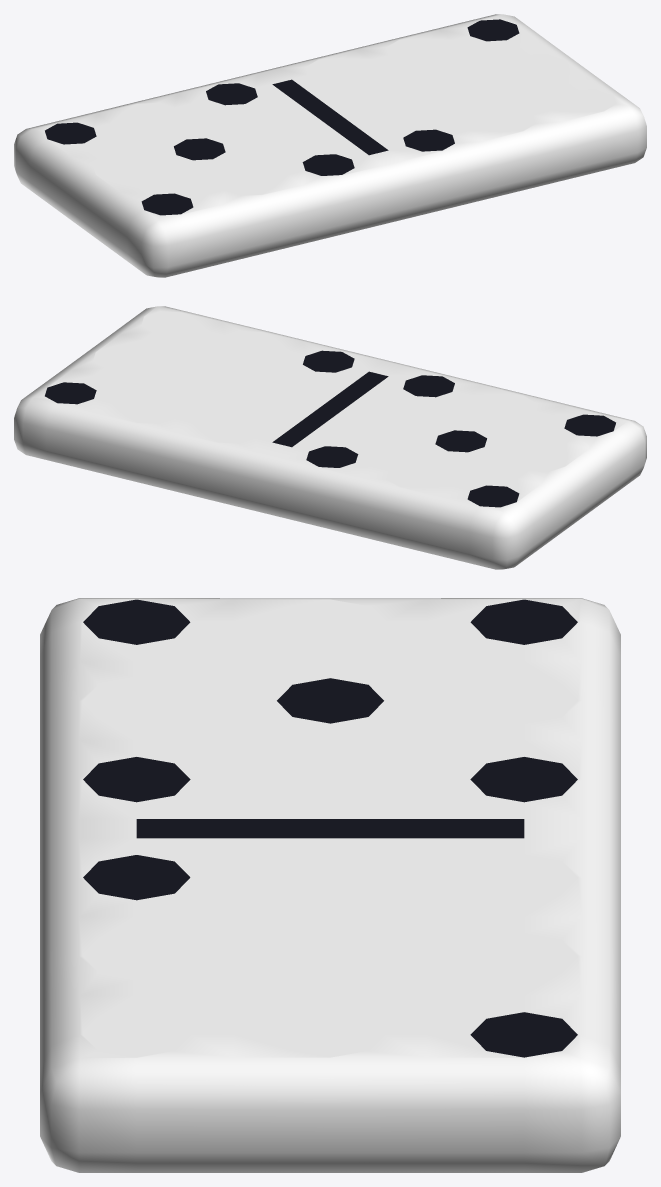
File: Domino.fbx
3 renders of one model, top to bottom at view 1: azimuth 30°, elevation 25°; view 2: azimuth 150°, elevation 25°; view 3: azimuth 270°, elevation 25°, orthographic. The views are drawn at different scales.
Visible parts, largest first — view 1: Msh_Domino; view 2: Msh_Domino; view 3: Msh_Domino.
Part boxes in pixels (x1,y1,x2,y2): Msh_Domino: (14, 14, 646, 277); Msh_Domino: (14, 306, 646, 569); Msh_Domino: (40, 598, 620, 1172).
Size of the model in its own units: 41.33 by 4.47 by 20.66.
